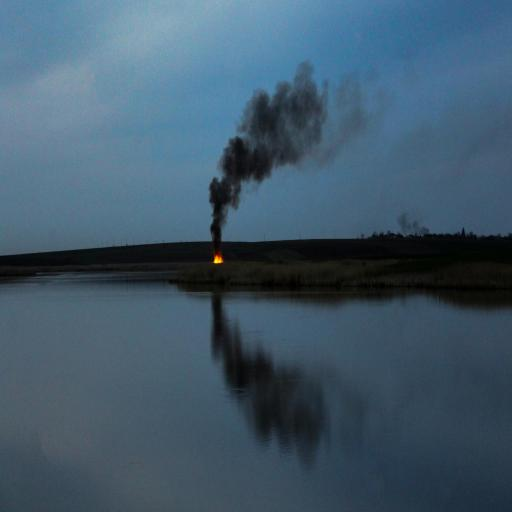campfire: (209, 242, 231, 275)
smoke: (235, 55, 439, 185), (182, 84, 261, 252)
